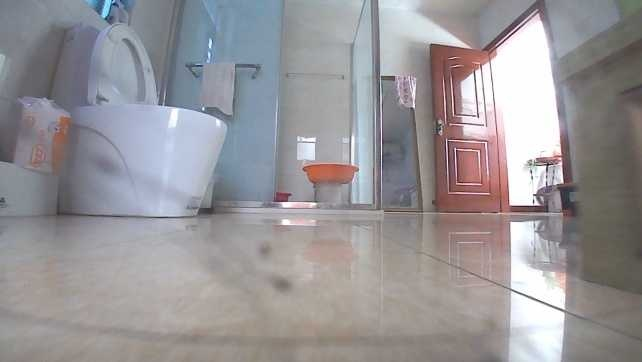door_anno: (427, 41, 503, 216)
toilet: (46, 16, 230, 218)
